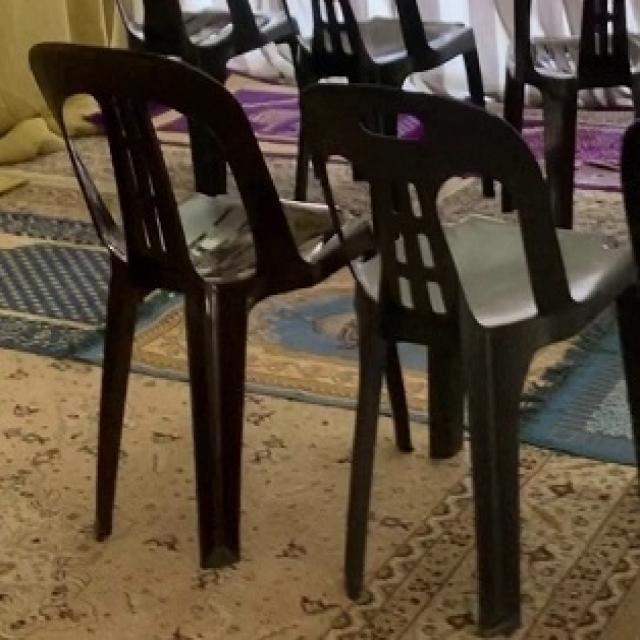chair: (297, 61, 640, 640), (29, 39, 338, 577)
